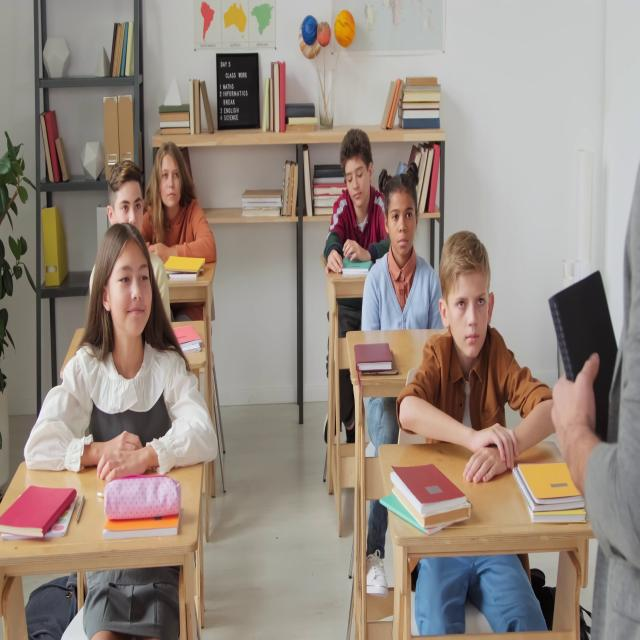listening: (395, 243, 559, 634), (24, 228, 220, 467), (358, 168, 443, 341), (89, 162, 172, 326), (141, 142, 218, 314), (320, 126, 380, 280)
